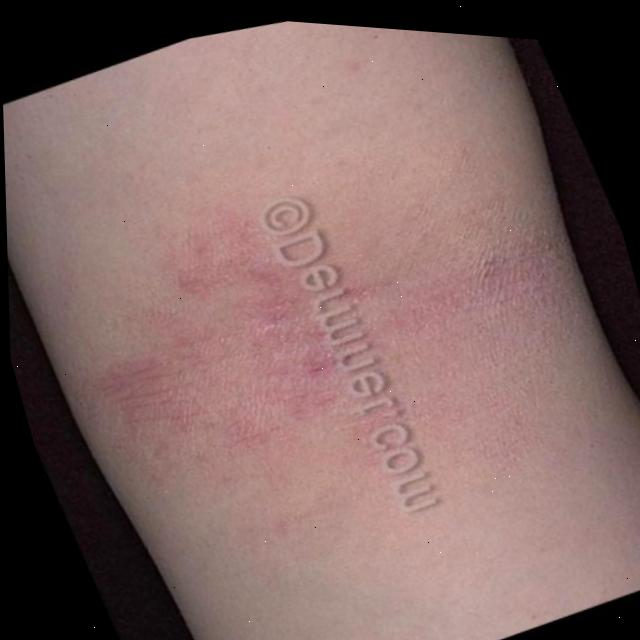Eczema: (112, 127, 509, 484)
